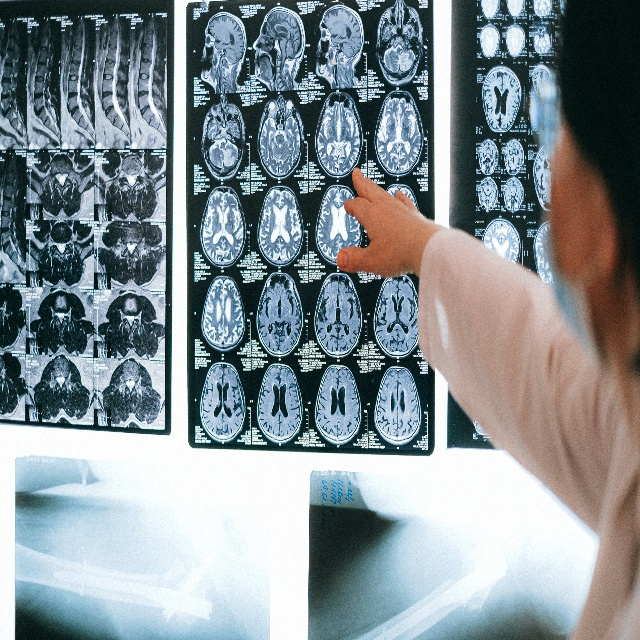Sin_guantes: (337, 167, 422, 284)
